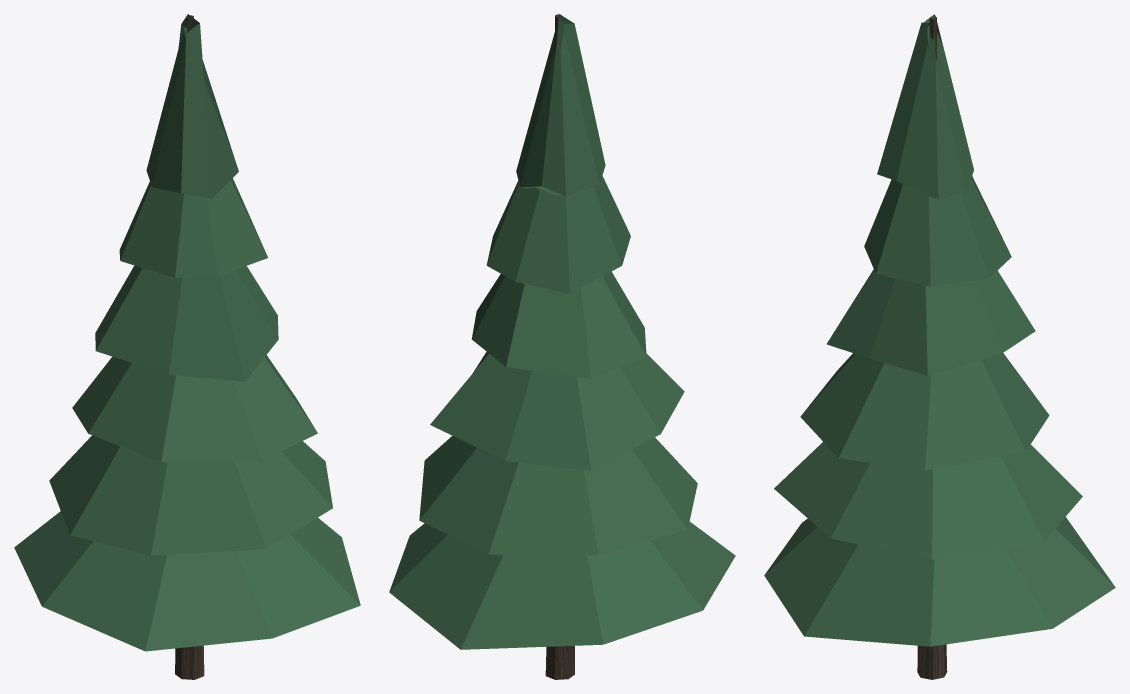
The model's file is tree_pine.glb.
3 views of the same model, side by side, from view 1: azimuth 30°, elevation 25°; view 2: azimuth 150°, elevation 25°; view 3: azimuth 270°, elevation 25° (orthographic).
Visible parts, largest first — view 1: Tree_Pine; view 2: Tree_Pine; view 3: Tree_Pine.
Part boxes in pixels (x1=…): Tree_Pine: x1=14, y1=14, x2=360, y2=679; Tree_Pine: x1=389, y1=14, x2=735, y2=679; Tree_Pine: x1=764, y1=14, x2=1115, y2=679.
Bounding box in the file's own units: 4.49 × 9.54 × 4.61.
2 materials, 1 textured.
